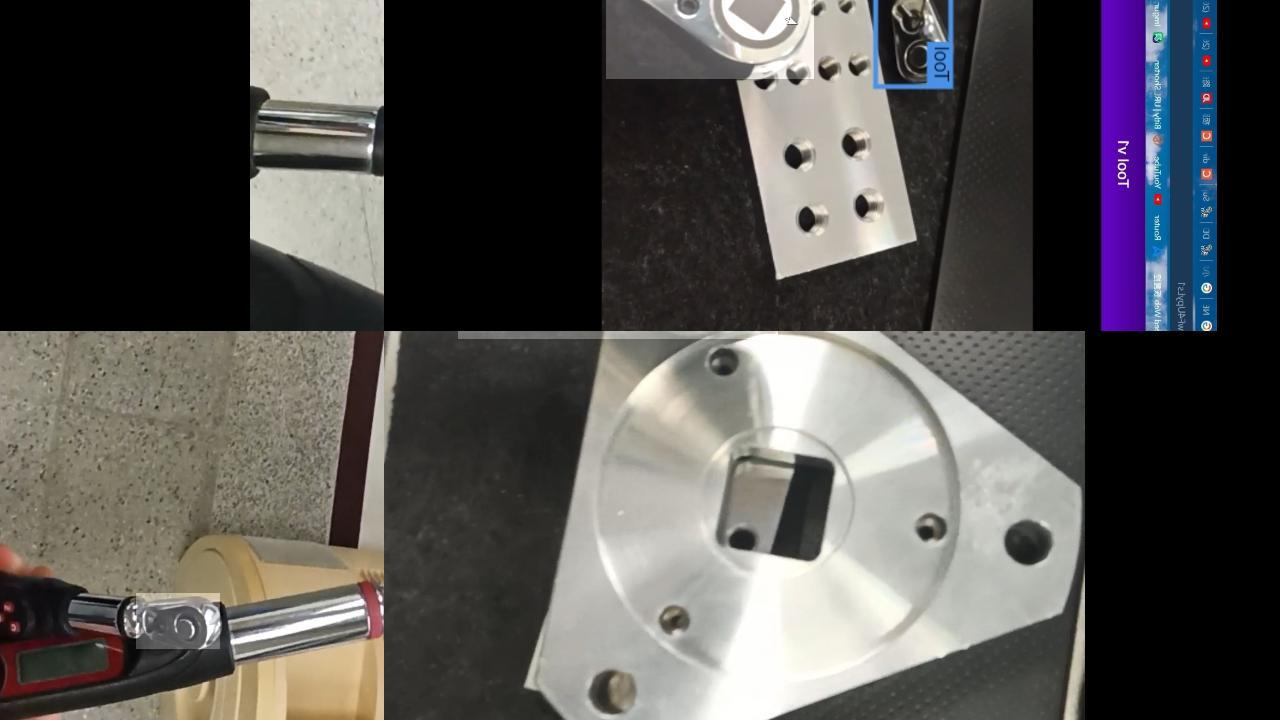Tool: (605, 0, 813, 79), (135, 593, 219, 649)
